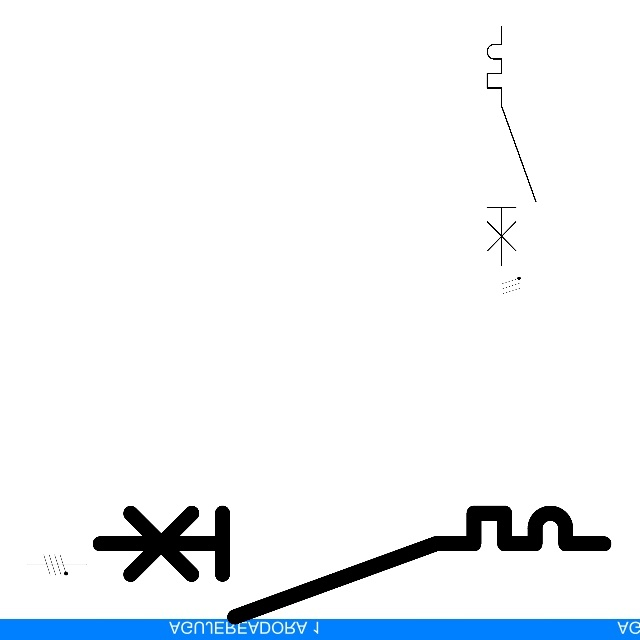interruptor_termomagnetico: (86, 500, 616, 630), (481, 20, 542, 271)
